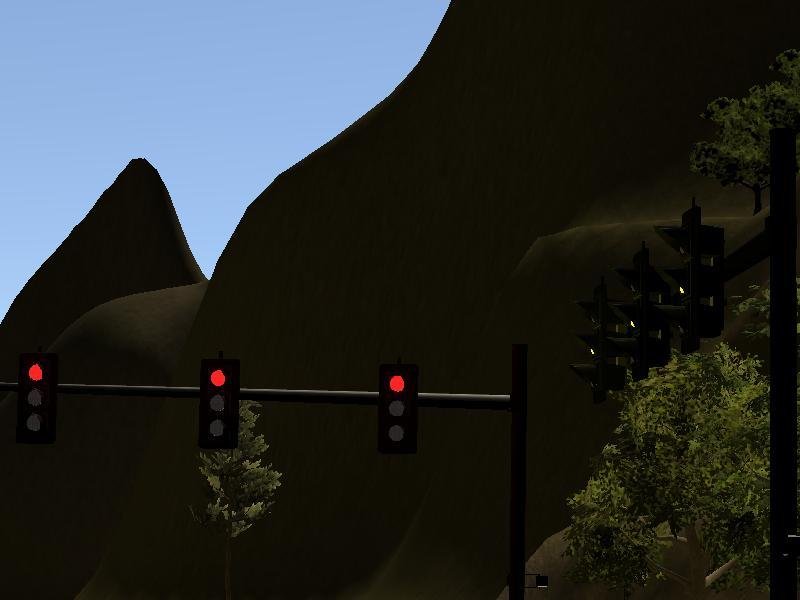Red: (197, 356, 238, 448), (377, 362, 418, 454), (12, 352, 53, 444)
